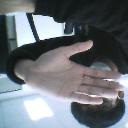hand: (32, 38, 126, 107)
